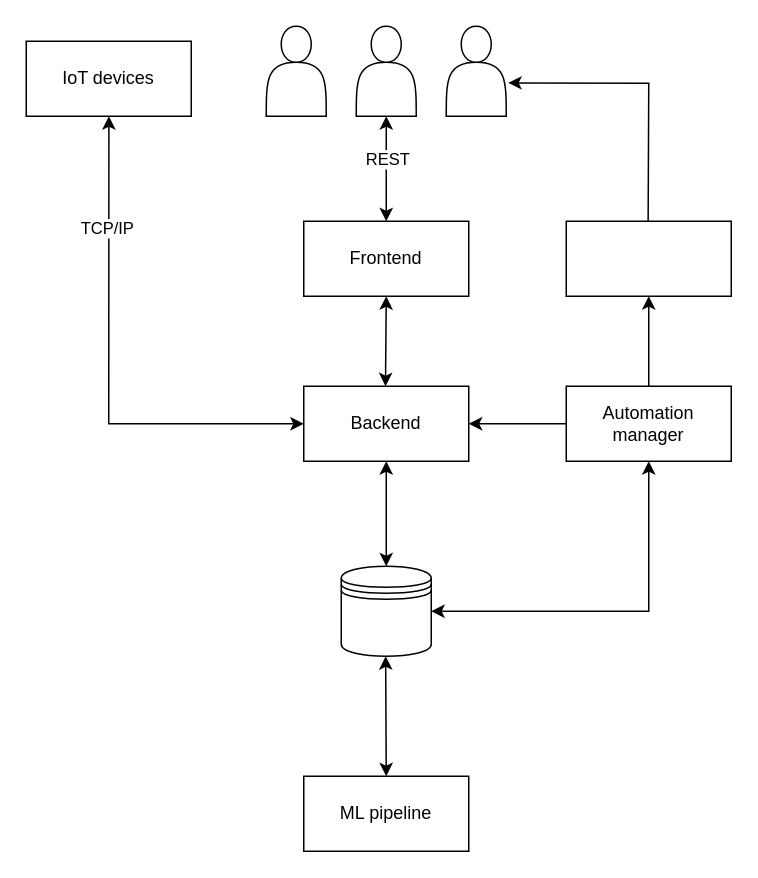
The diagram is 758 pixels wide and 878 high, and some of its shapes have lost their labels. Here are the shapes that lost their labels. From the top down, the box of each, then its label:
(565, 220, 731, 296): Email provider
(340, 565, 431, 656): Database
